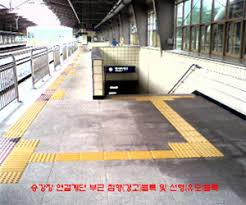guide_blocks: (152, 101, 206, 141), (32, 151, 174, 160), (171, 141, 223, 157), (112, 96, 194, 99)
